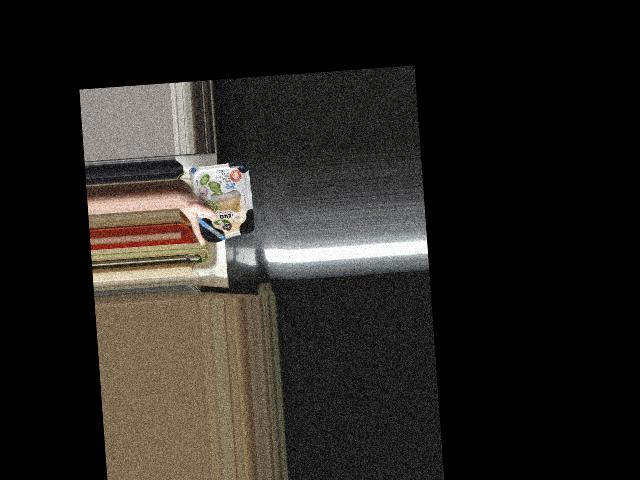cheese: (189, 164, 254, 243)
